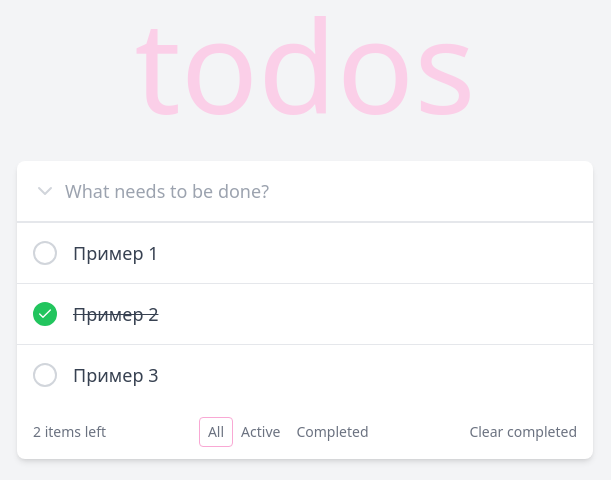
Test: filters active todos
Click the button "Active" at (261, 432), box [233,417,288,447]
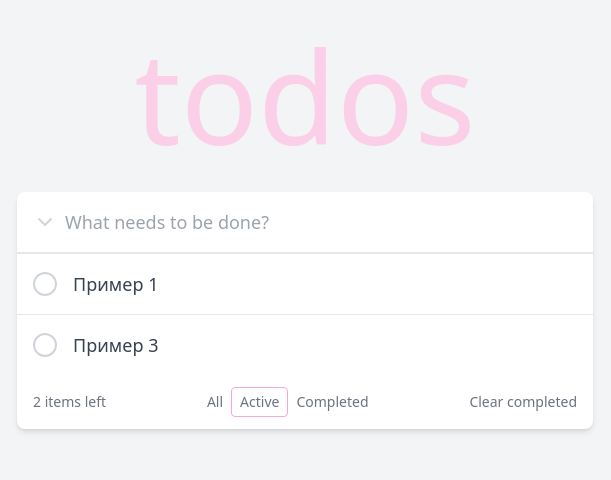
Expected: the text "Пример 3" is shown, [73,330,158,358]
Expected: the text "Пример 2" is gone
Click the text "Пример 1" at (116, 284), box [73,270,158,298]
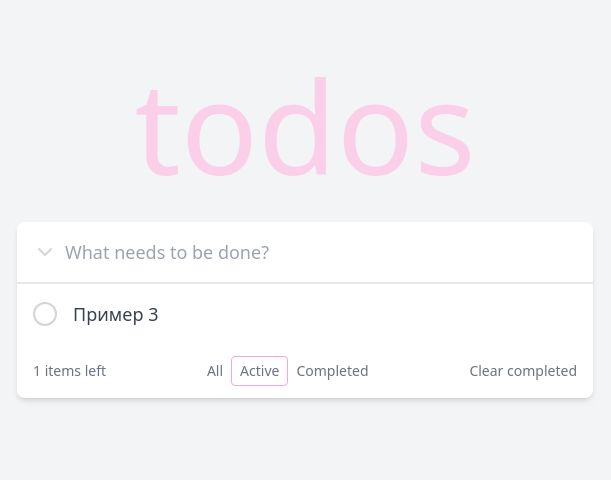
Expected: the text "Пример 1" is gone
